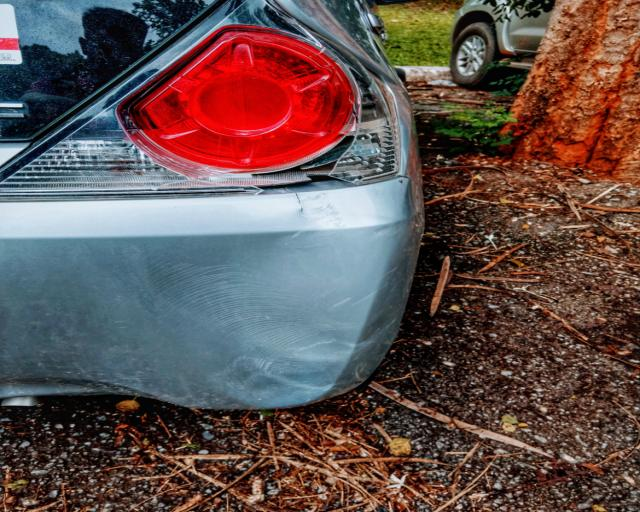dent: (147, 193, 375, 406)
lamp broken: (0, 25, 406, 195)
